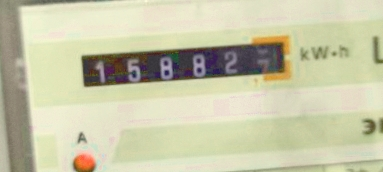1: (92, 59, 107, 84)
2: (222, 49, 238, 74)
5: (124, 56, 141, 82)
7: (255, 55, 270, 75)
8: (157, 55, 174, 81), (190, 52, 206, 78)
screen: (65, 26, 301, 103)
